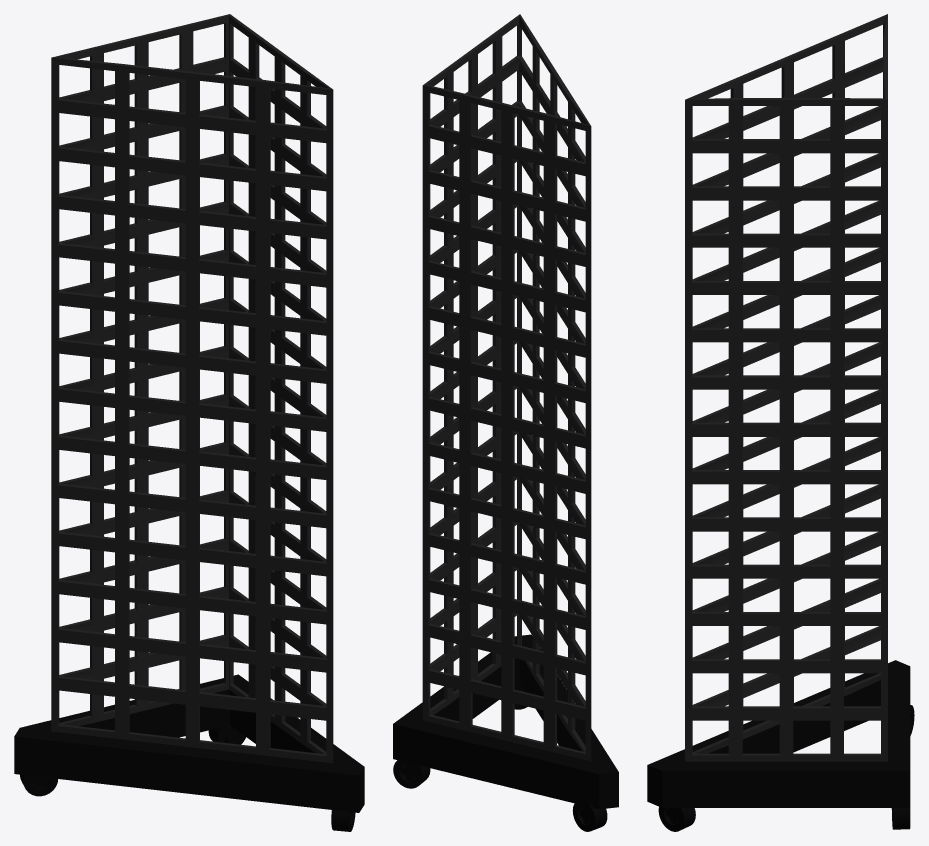
Rendered from Shelf_03_Tall.glb.
3 renders of one model, left to right at view 1: azimuth 30°, elevation 25°; view 2: azimuth 150°, elevation 25°; view 3: azimuth 270°, elevation 25°, orthographic. The views are drawn at different scales.
Visible parts, largest first — view 1: Mesh_Shelf_03_Tall; view 2: Mesh_Shelf_03_Tall; view 3: Mesh_Shelf_03_Tall.
Boxes of the visible parts, x1,y1,x2,y2 form: Mesh_Shelf_03_Tall: (14,14,364,831); Mesh_Shelf_03_Tall: (393,14,618,831); Mesh_Shelf_03_Tall: (647,14,914,831).
Size of the model in its own units: 0.6545 by 1.97 by 0.6581.
Materials: 1 (1 with a texture image).
